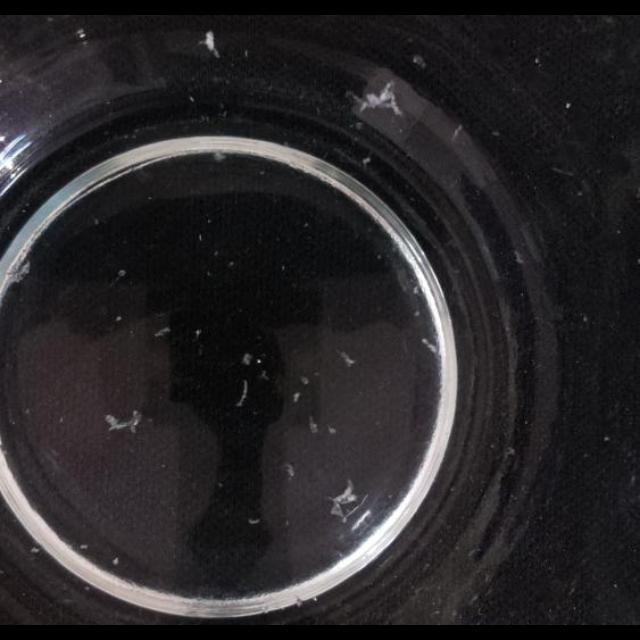Fibre: (328, 483, 368, 525), (356, 80, 402, 116), (106, 409, 142, 433), (6, 258, 32, 286), (200, 31, 220, 57), (336, 349, 356, 367), (420, 338, 438, 356), (236, 380, 248, 406), (412, 55, 426, 69), (284, 462, 296, 478), (308, 415, 318, 433), (512, 250, 524, 264), (154, 326, 170, 336), (452, 126, 463, 140), (212, 152, 225, 162), (75, 28, 87, 38), (361, 156, 371, 166), (292, 392, 300, 404)
microbeads: (242, 352, 252, 366), (505, 447, 515, 457), (194, 329, 202, 339), (300, 376, 308, 386), (187, 95, 195, 104), (30, 548, 42, 554), (118, 270, 126, 278), (534, 57, 542, 65), (112, 556, 118, 566), (414, 309, 421, 317), (582, 315, 588, 323), (565, 102, 571, 110), (80, 544, 88, 550), (198, 234, 204, 242), (115, 316, 122, 322), (604, 436, 610, 442)
